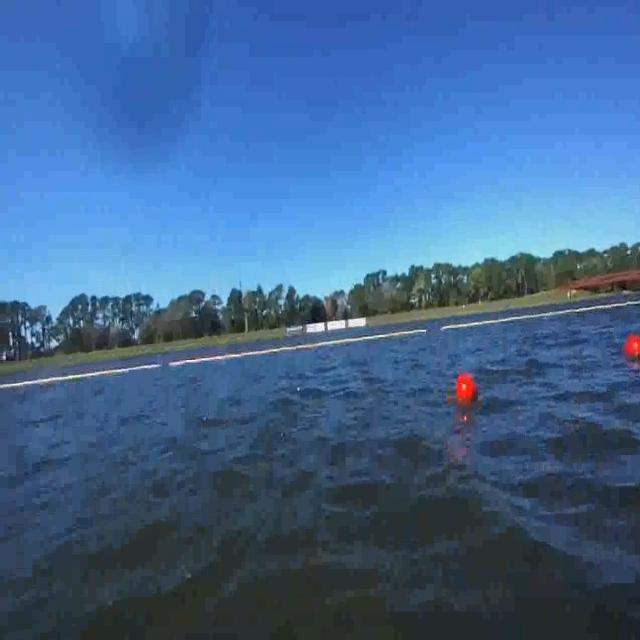red-buoy: (456, 374, 478, 408), (624, 336, 640, 364)
